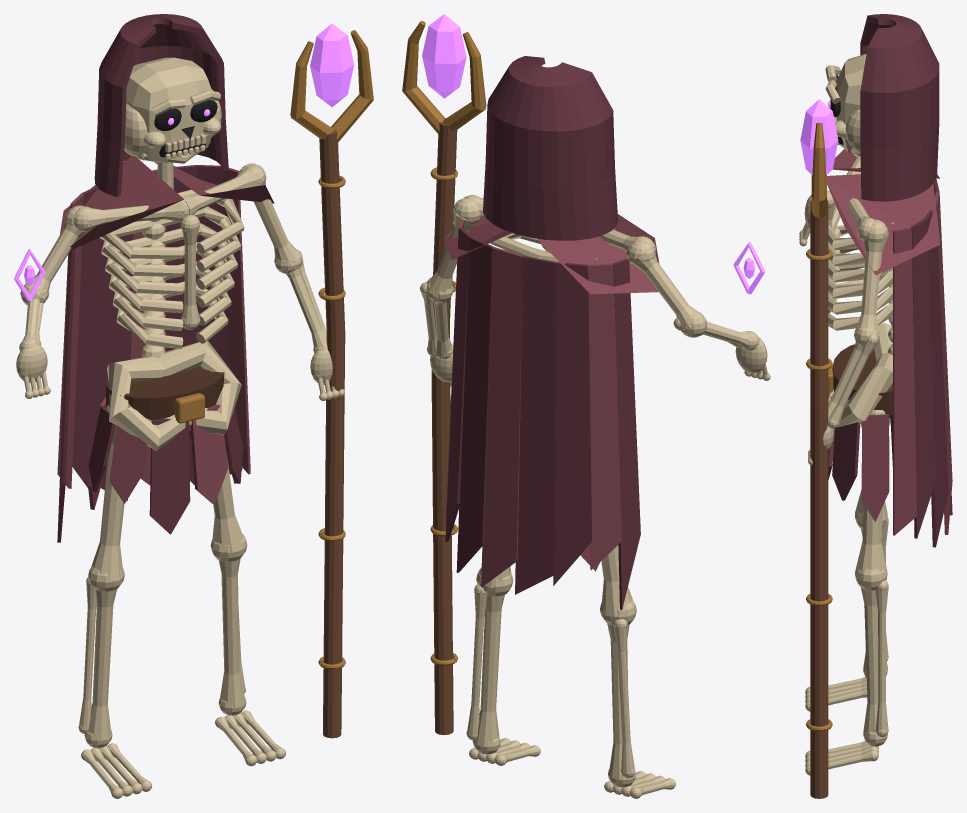
File: ranged.glb
The picture shows the model from 3 angles, left to right: view 1: azimuth 30°, elevation 25°; view 2: azimuth 150°, elevation 25°; view 3: azimuth 270°, elevation 25°; orthographic projection. The views are drawn at different scales.
Parts seen in each view (by area): view 1: Mage staff, Open burgundy hood, Tattered back cloak.005, Skull cranium.001, Shoulder mantle, Pelvis arch.002, Ragged cloth strip.017, Tattered back cloak, Skeleton belt.001, Pelvis arch.003, Violet staff crystal, Tibia.002 (+38 smaller); view 2: Open burgundy hood, Tattered back cloak.004, Tattered back cloak.003, Tattered back cloak.005, Mage staff, Tattered back cloak.006, Tattered back cloak.002, Tattered back cloak.007, Tattered back cloak.001, Shoulder mantle, Violet staff crystal, Tibia.003 (+12 smaller); view 3: Open burgundy hood, Mage staff, Tattered back cloak, Tattered back cloak.001, Shoulder mantle.001, Tattered back cloak.002, Ragged cloth strip.010, Pelvis arch.003, Tibia.003, Violet staff crystal, Ragged cloth strip.019, Tattered back cloak.003 (+22 smaller).
Part boxes in pixels (x1,y1,x2,y2): Mage staff: (319,126,345,738); Open burgundy hood: (94,14,228,196); Tattered back cloak.005: (72,186,103,488); Skull cranium.001: (126,57,212,162); Shoulder mantle: (60,156,183,249); Pelvis arch.002: (107,356,190,450); Ragged cloth strip.017: (149,418,190,534); Tattered back cloak: (221,167,250,474); Skeleton belt.001: (106,366,224,420); Pelvis arch.003: (159,341,241,434); Violet staff crystal: (310,23,354,107); Tibia.002: (88,589,116,740); Open burgundy hood: (483,56,617,240); Tattered back cloak.004: (515,256,556,594); Tattered back cloak.003: (481,247,523,587); Tattered back cloak.005: (553,262,591,585); Mage staff: (431,118,457,735); Tattered back cloak.006: (587,263,621,569); Tattered back cloak.002: (456,237,494,572); Tattered back cloak.007: (612,259,640,610); Tattered back cloak.001: (445,227,472,541); Shoulder mantle: (537,214,659,294); Violet staff crystal: (422,14,466,98); Tibia.003: (476,594,504,746); Open burgundy hood: (860,14,939,201); Mage staff: (810,199,828,798); Tattered back cloak: (893,227,916,535); Tattered back cloak.001: (910,219,936,538); Shoulder mantle.001: (827,174,940,275); Tattered back cloak.002: (924,206,948,547); Ragged cloth strip.010: (861,414,889,521); Pelvis arch.003: (828,352,892,430); Tibia.003: (861,588,887,737); Violet staff crystal: (800,99,838,174); Ragged cloth strip.019: (832,422,860,500); Tattered back cloak.003: (935,191,952,534).
Bounding box in the file's own units: 0.9377 × 1.82 × 0.3542.
